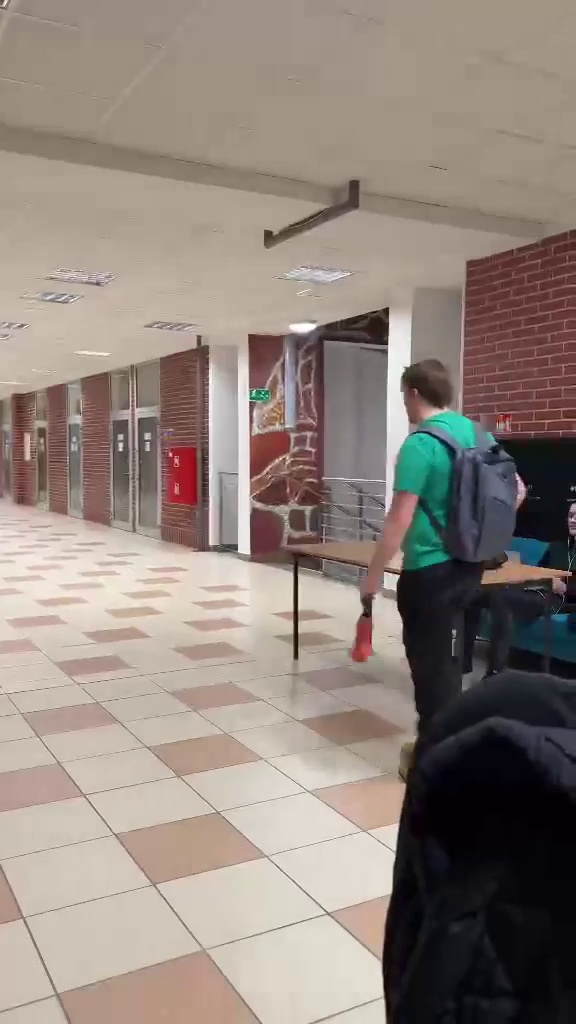no vest: (363, 346, 526, 711)
